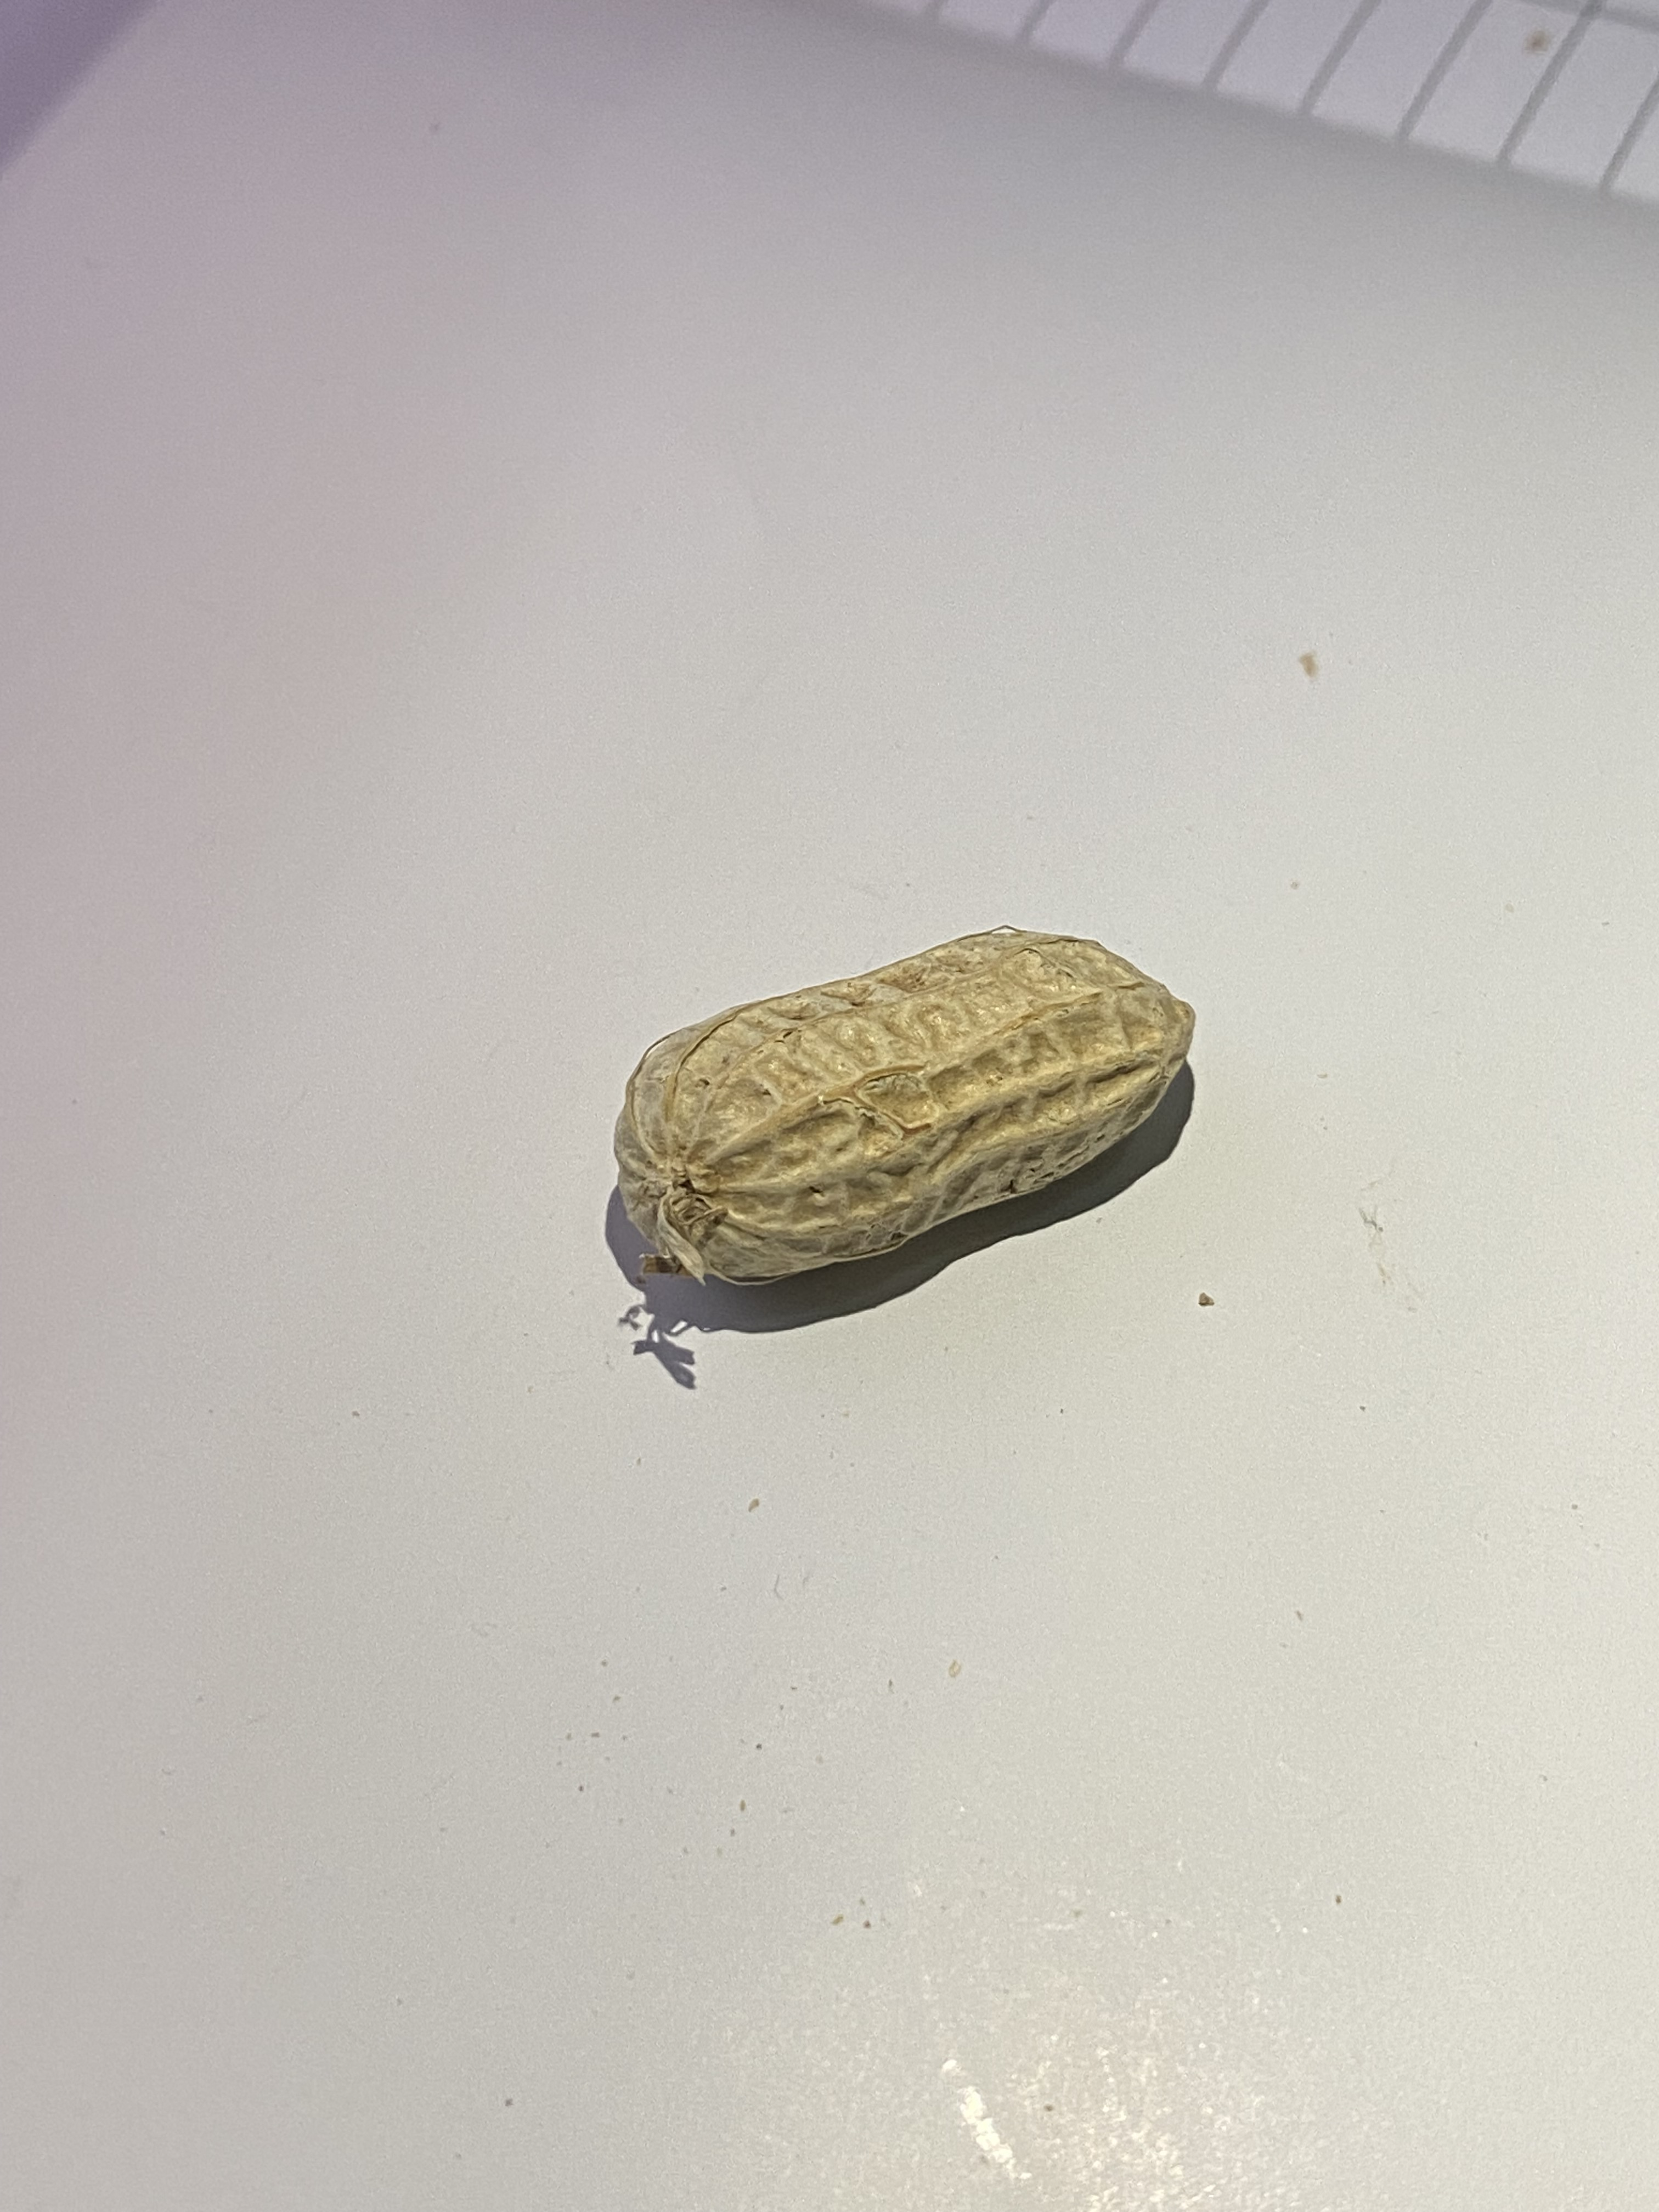kacang2: (587, 894, 1253, 1329)
